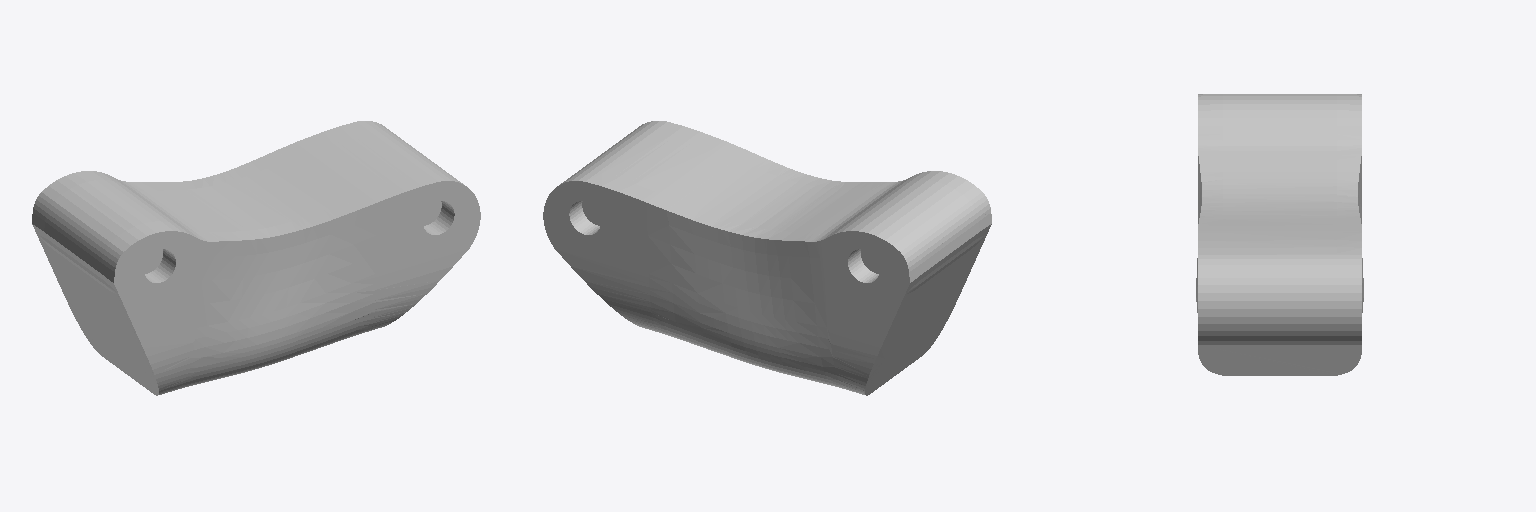
The model's file is finger_proximal.obj.
3 views of the same model, side by side, from view 1: azimuth 30°, elevation 25°; view 2: azimuth 150°, elevation 25°; view 3: azimuth 270°, elevation 25° (orthographic).
Parts seen in each view (by area): view 1: Finger_Proximal; view 2: Finger_Proximal; view 3: Finger_Proximal.
Part boxes in pixels (left/top/right/bottom): Finger_Proximal: left=32, top=121, right=480, bottom=395; Finger_Proximal: left=543, top=121, right=991, bottom=395; Finger_Proximal: left=1196, top=94, right=1363, bottom=375.
Size of the model in its own units: 0.0579 by 0.0265 by 0.0229.